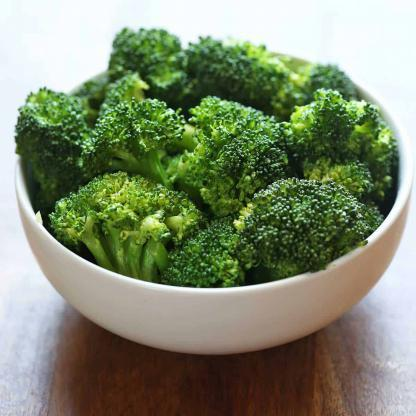broccoli: (8, 26, 398, 290)
